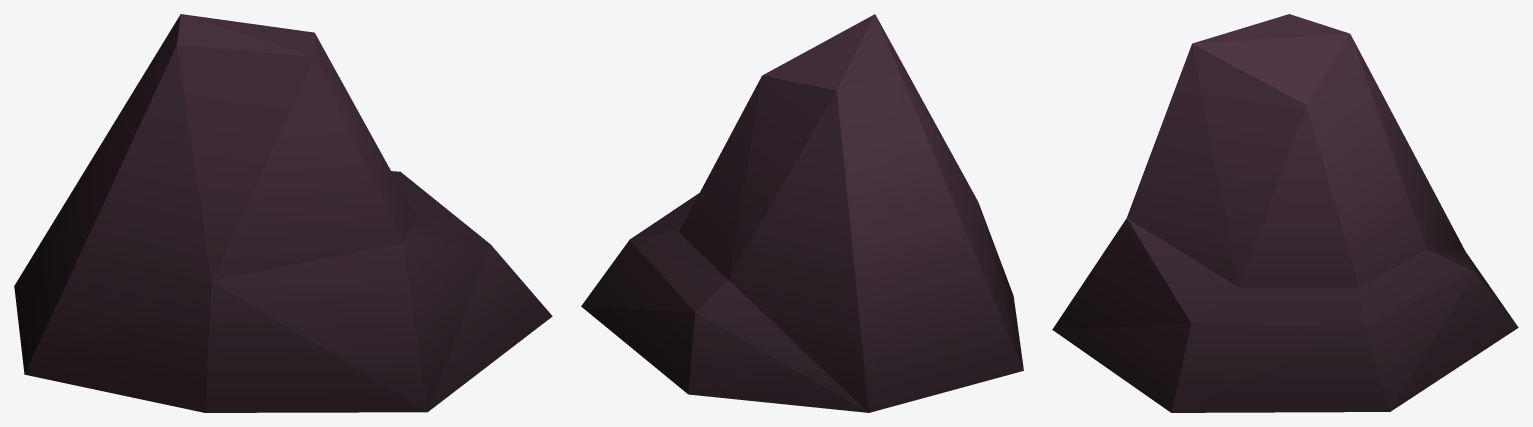
The model's file is SM_Rock_base_18.fbx.
The picture shows the model from 3 angles, left to right: view 1: azimuth 30°, elevation 25°; view 2: azimuth 150°, elevation 25°; view 3: azimuth 270°, elevation 25°; orthographic projection. The views are drawn at different scales.
Parts seen in each view (by area): view 1: Rock_base_18; view 2: Rock_base_18; view 3: Rock_base_18.
Boxes of the visible parts, <box> form: Rock_base_18: <box>14,14,552,412</box>; Rock_base_18: <box>581,14,1023,412</box>; Rock_base_18: <box>1052,14,1518,412</box>.
Bounding box in the file's own units: 349 × 223 × 348.
1 material, 1 textured.
